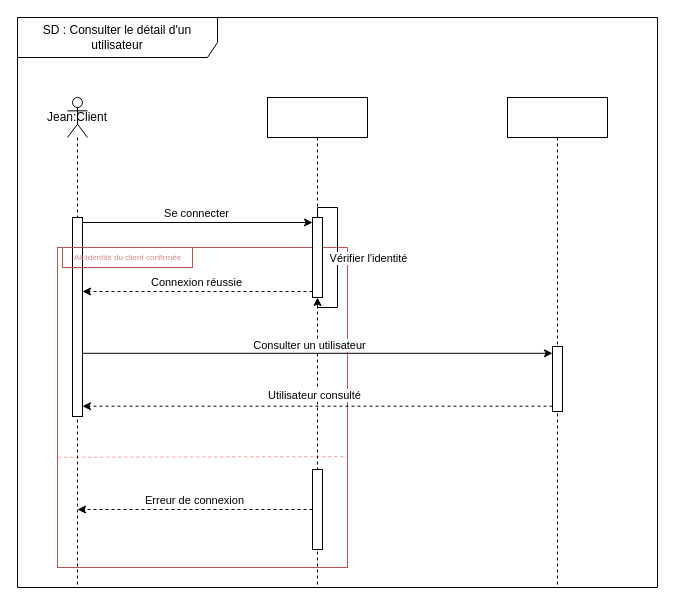
Image size: 675x605. Some labels were removed from this diagram. Each missing label, with the box of its shape:
:API BileMo: (506, 96, 608, 588)
:Système de connexion: (266, 96, 368, 588)
